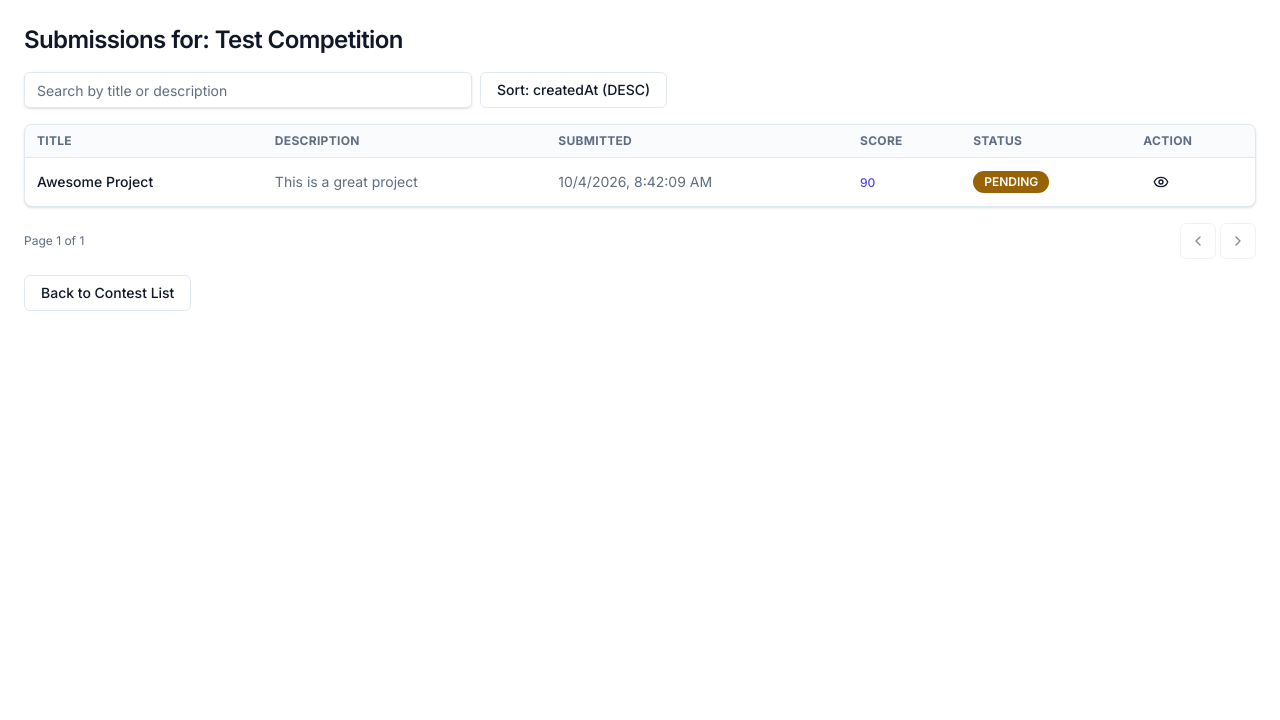
OrganizerSubmissions › opens and closes the review dialog
Expected: the text "Awesome Project" is shown, [25,158,263,206]
Click the button named "View detail" at [1161, 182], box [1143,164,1179,200]
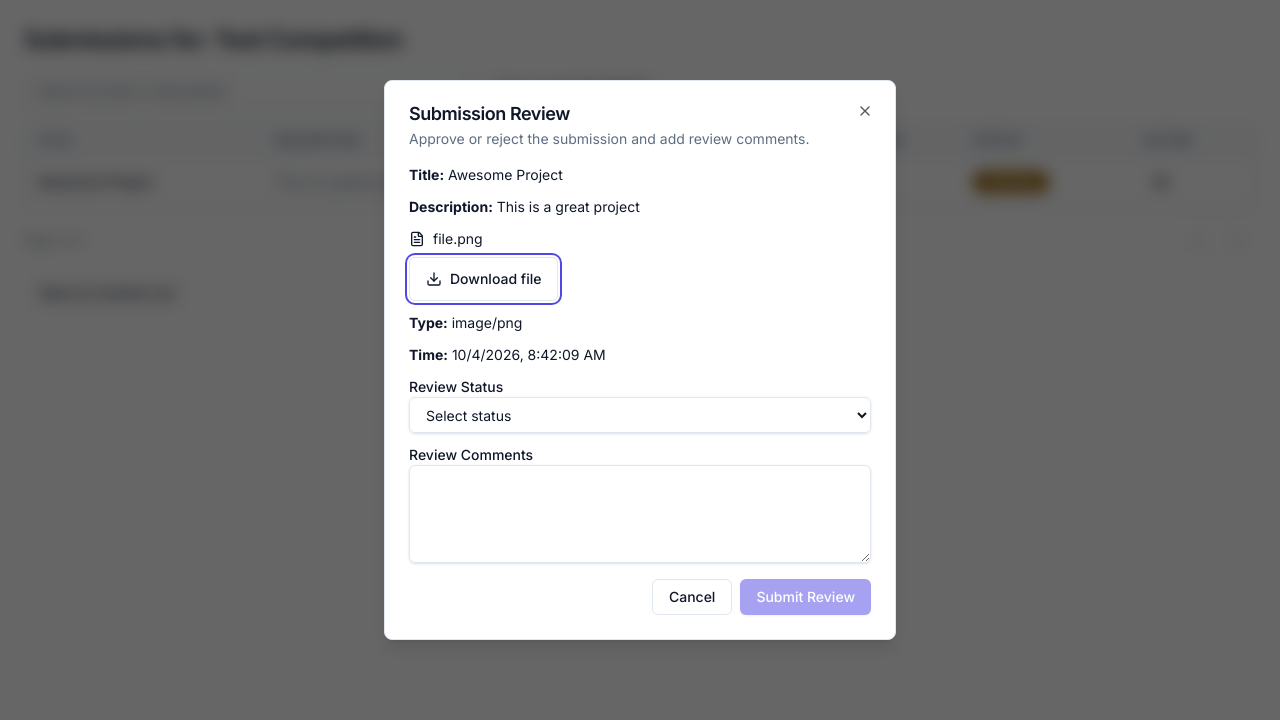
Now the heading "Submission Review" is shown, box [409,103,570,124]
Click the button "Cancel" at [692, 597], box [652,579,732,615]
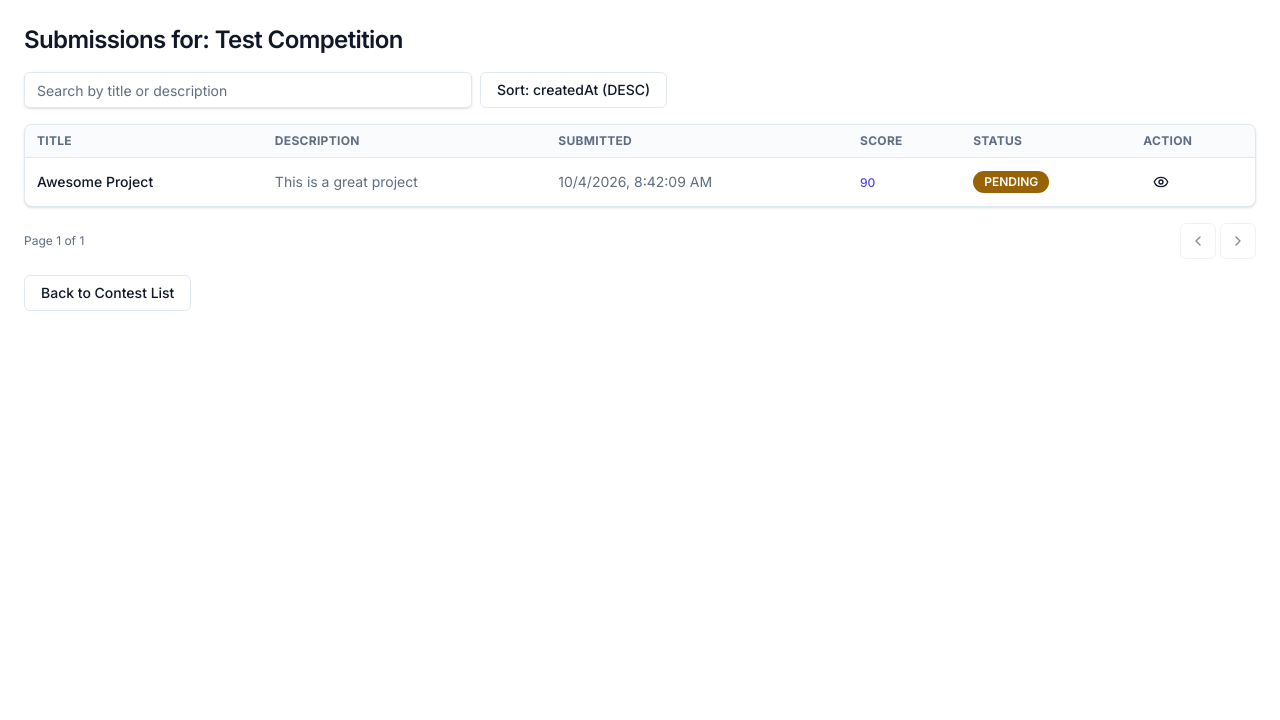
Now the heading "Submission Review" is gone
